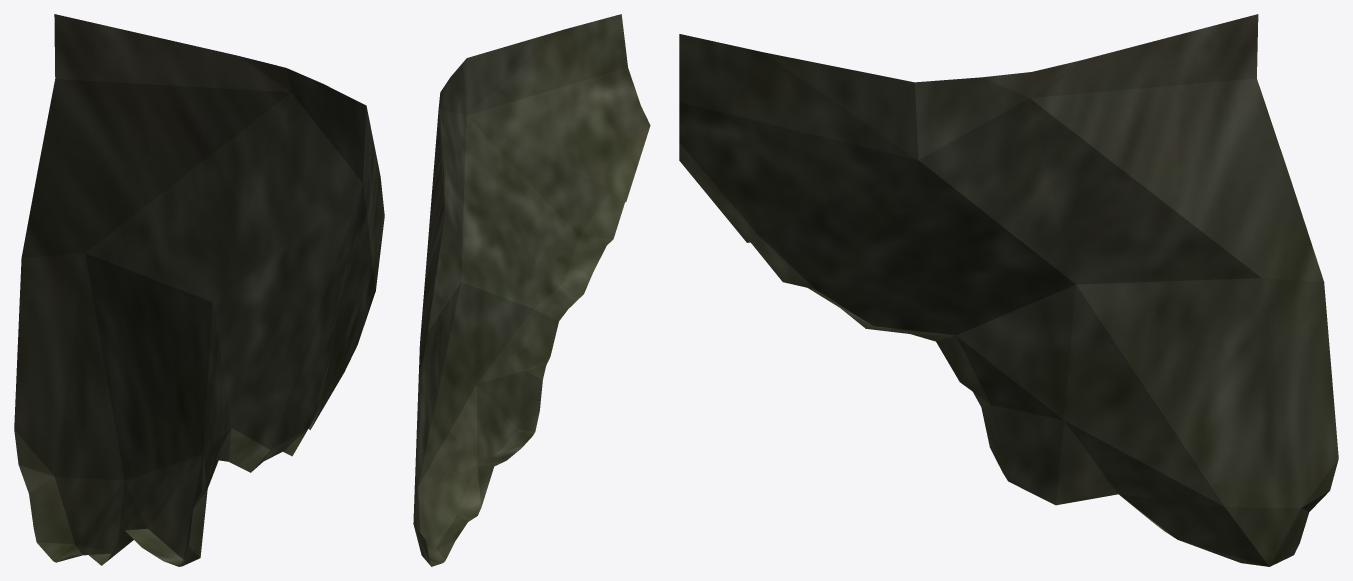
3 renders of one model, left to right at view 1: azimuth 30°, elevation 25°; view 2: azimuth 150°, elevation 25°; view 3: azimuth 270°, elevation 25°, orthographic. The views are drawn at different scales.
Size of the model in its own units: 0.4121 by 1.54 by 1.68.
Materials: 1 (1 with a texture image).
